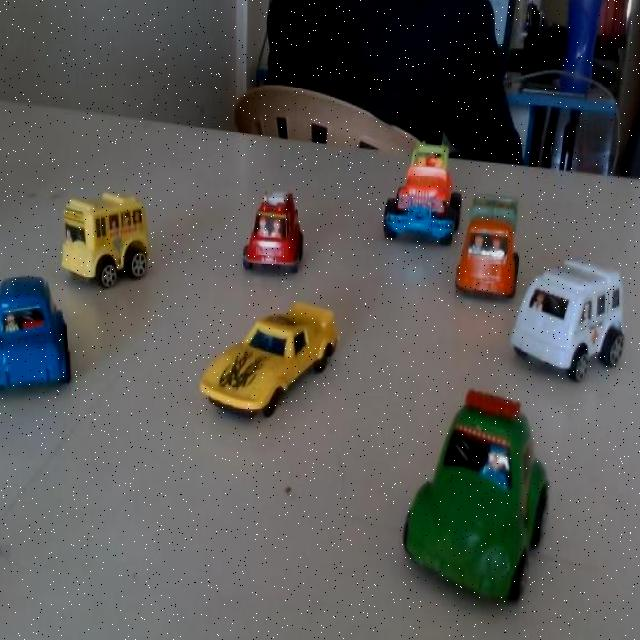car: (382, 407, 568, 601), (202, 282, 352, 431), (517, 259, 628, 384), (64, 185, 159, 286), (0, 274, 75, 391), (389, 144, 465, 255), (454, 196, 526, 306), (242, 178, 309, 286)
